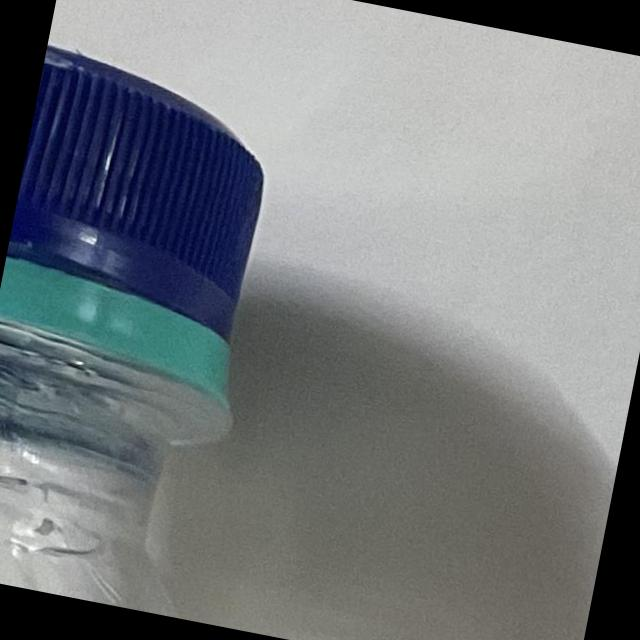Good-cap-Df0S: (0, 31, 331, 452)
